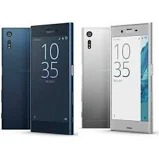sony: (27, 20, 74, 136), (106, 20, 153, 136)
